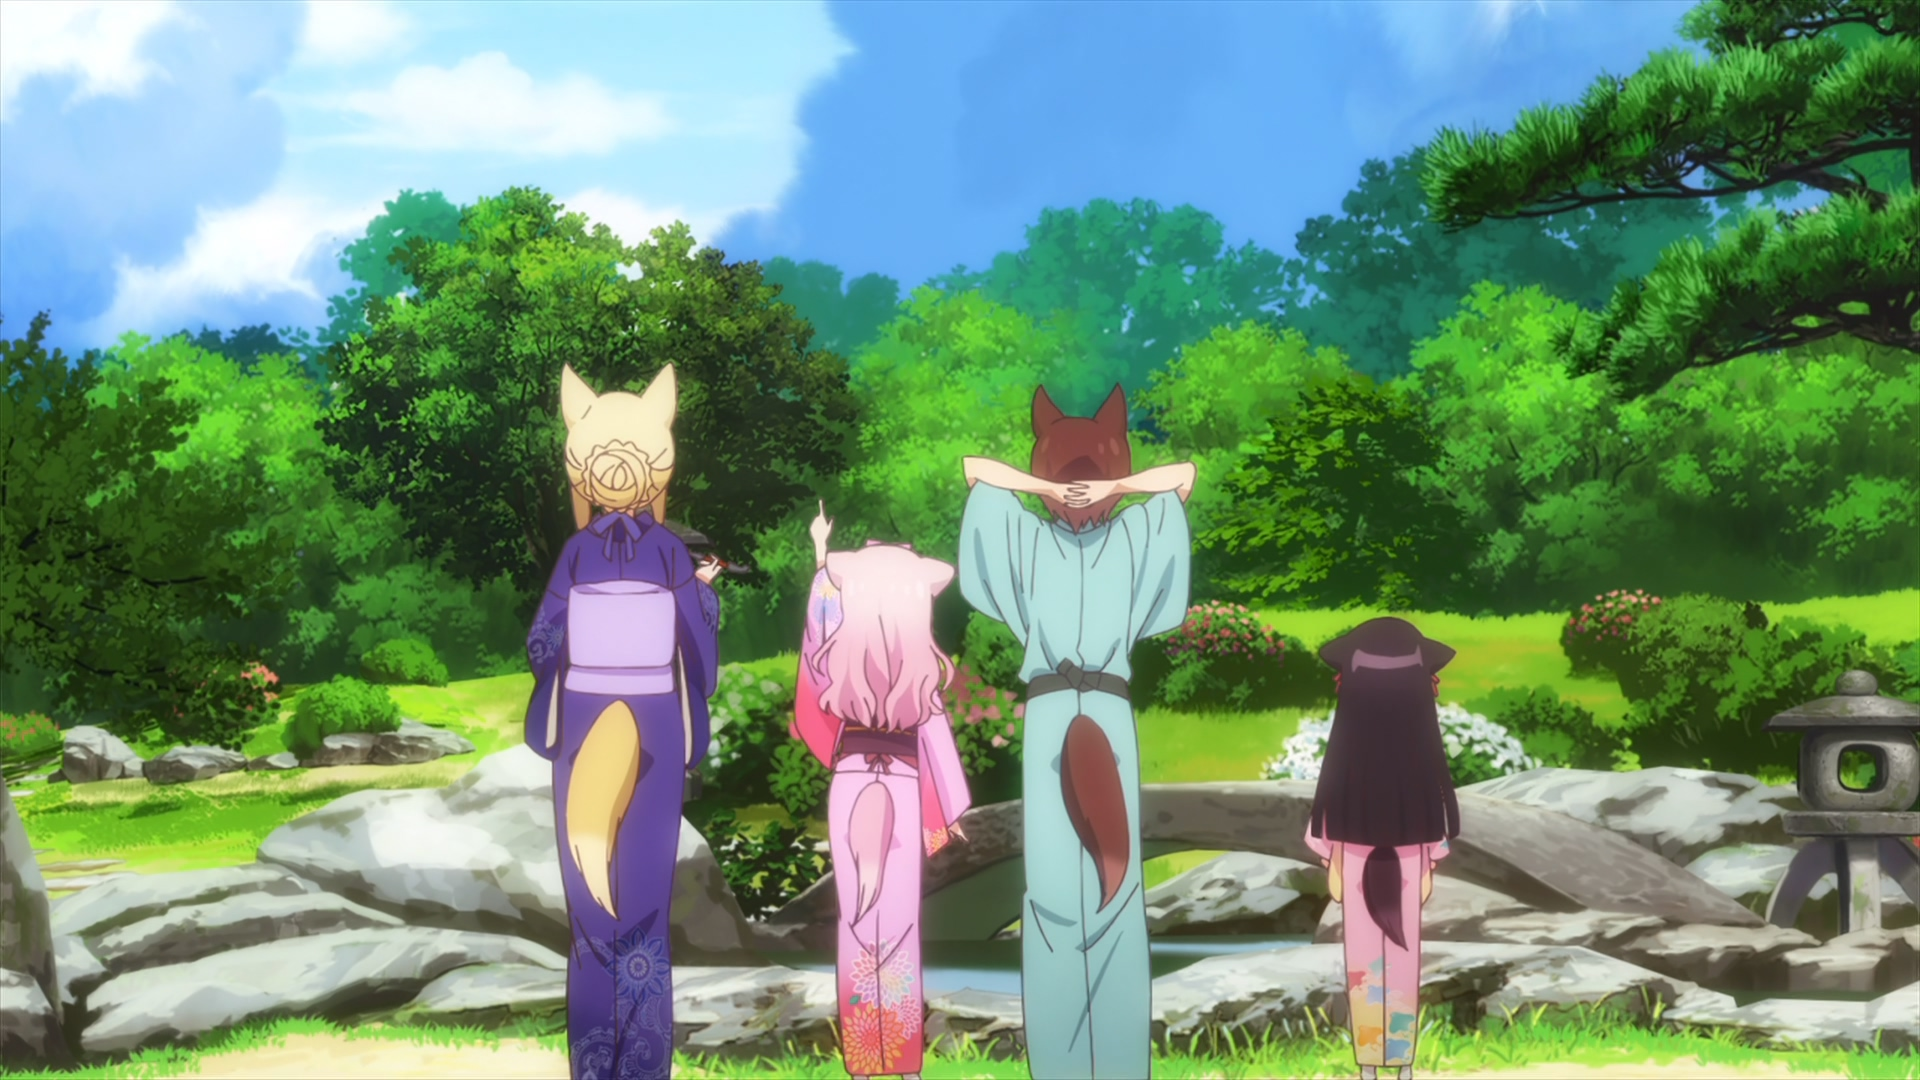枣: (957, 385, 1196, 1080)
桐: (525, 361, 721, 1080)
樱: (1305, 617, 1458, 1080)
莲: (789, 502, 969, 1080)
